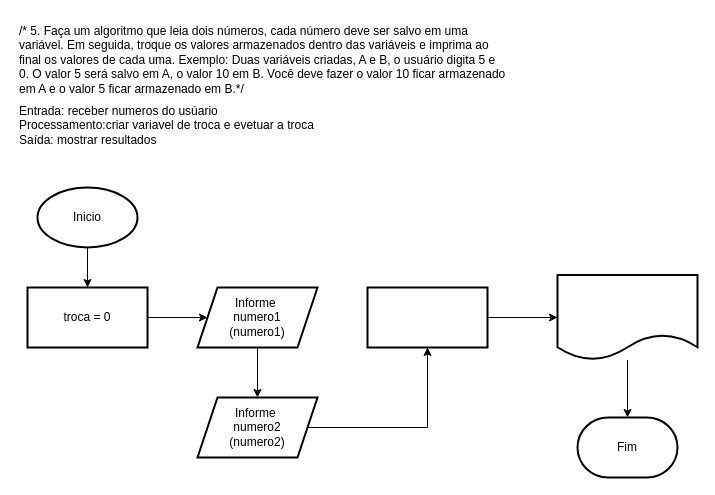
The diagram is 715 pixels wide and 495 high, and some of its shapes have lost their labels. The shapes that lost their labels are listed below. From the top down, each one's centre as x and y in pixels, then its label:
At point (427, 317): "troca = numero1 numero1 = numero2 numero2 = troca".
At point (627, 317): "Numero 1 agora é, numero1 Numero 2 agora é, numero2".
